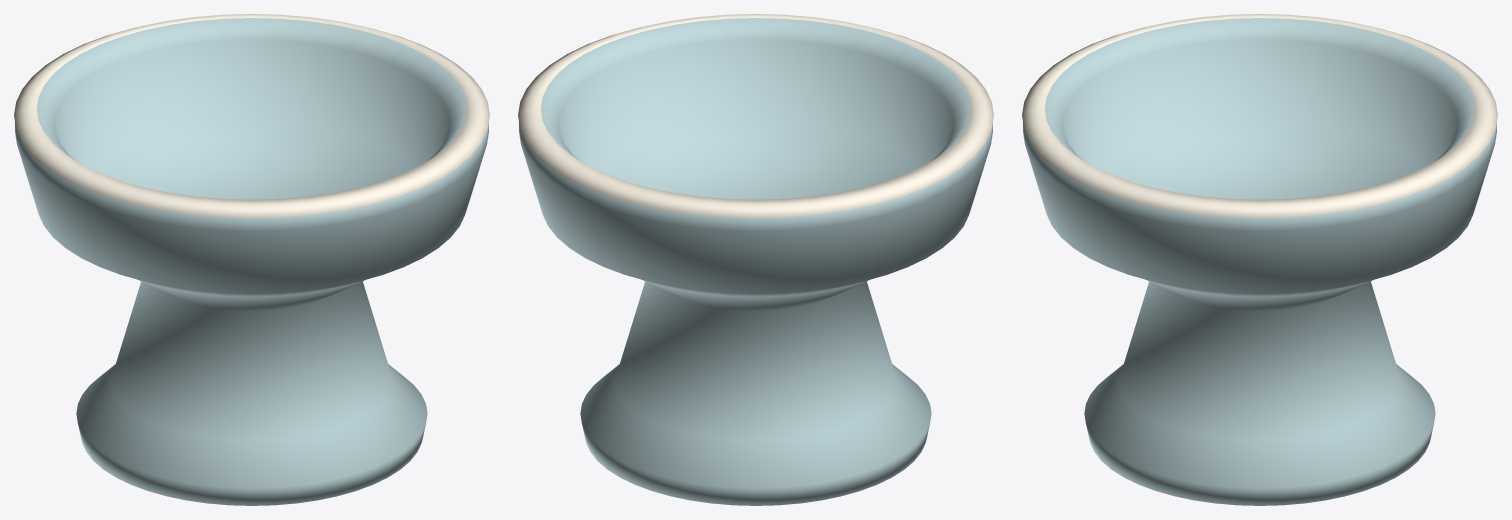
The model's file is bowl.glb.
3 renders of one model, left to right at view 1: azimuth 30°, elevation 25°; view 2: azimuth 150°, elevation 25°; view 3: azimuth 270°, elevation 25°, orthographic.
Visible parts, largest first — view 1: bowl; view 2: bowl; view 3: bowl.
Part boxes in pixels (box(x1,y1,x2,y2)): bowl: box(14, 14, 489, 505); bowl: box(518, 14, 993, 505); bowl: box(1022, 14, 1497, 505).
Bounding box in the file's own units: 0.542 × 0.408 × 0.542.
